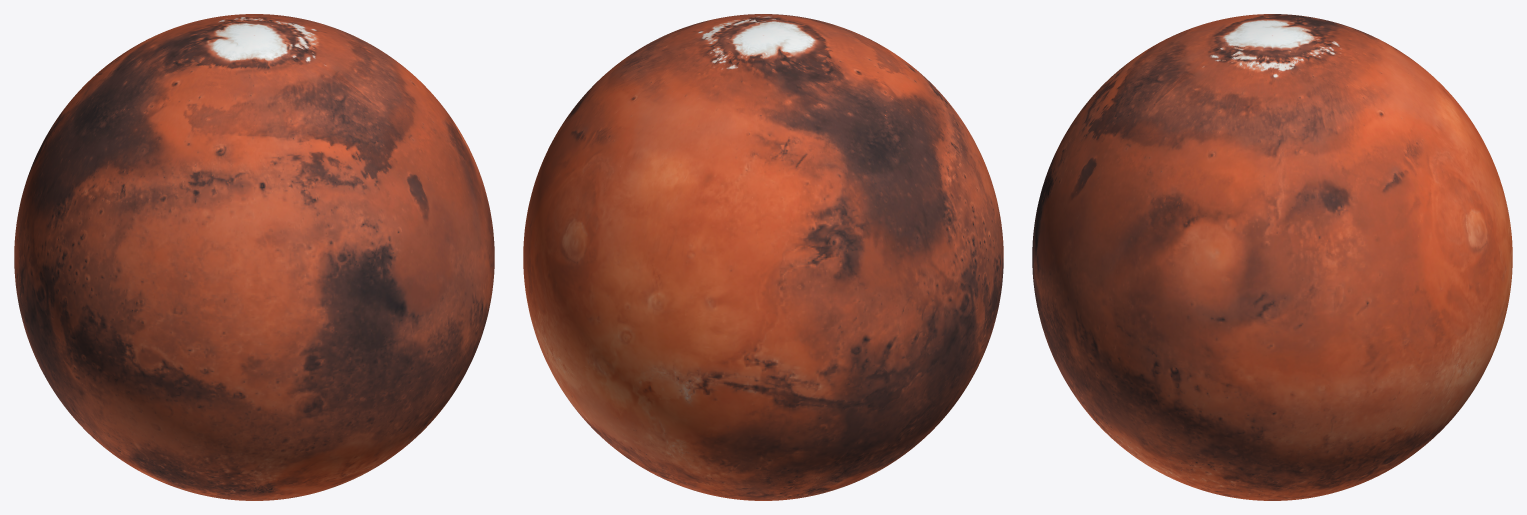
File: mars.glb
3 renders of one model, left to right at view 1: azimuth 30°, elevation 25°; view 2: azimuth 150°, elevation 25°; view 3: azimuth 270°, elevation 25°, orthographic.
Parts seen in each view (by area): view 1: pSphere1; view 2: pSphere1; view 3: pSphere1.
Boxes of the visible parts, bbox=[...] form: pSphere1: bbox=[14, 14, 494, 500]; pSphere1: bbox=[523, 14, 1003, 500]; pSphere1: bbox=[1032, 14, 1512, 500].
Size of the model in its own units: 14.38 by 14.65 by 14.38.
1 material, 1 textured.
